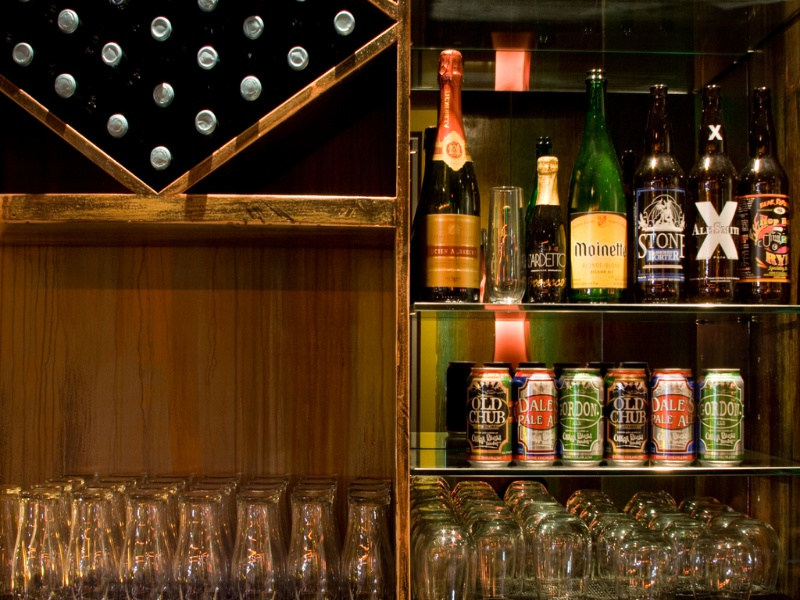wine: (419, 36, 798, 305), (2, 1, 401, 199)
